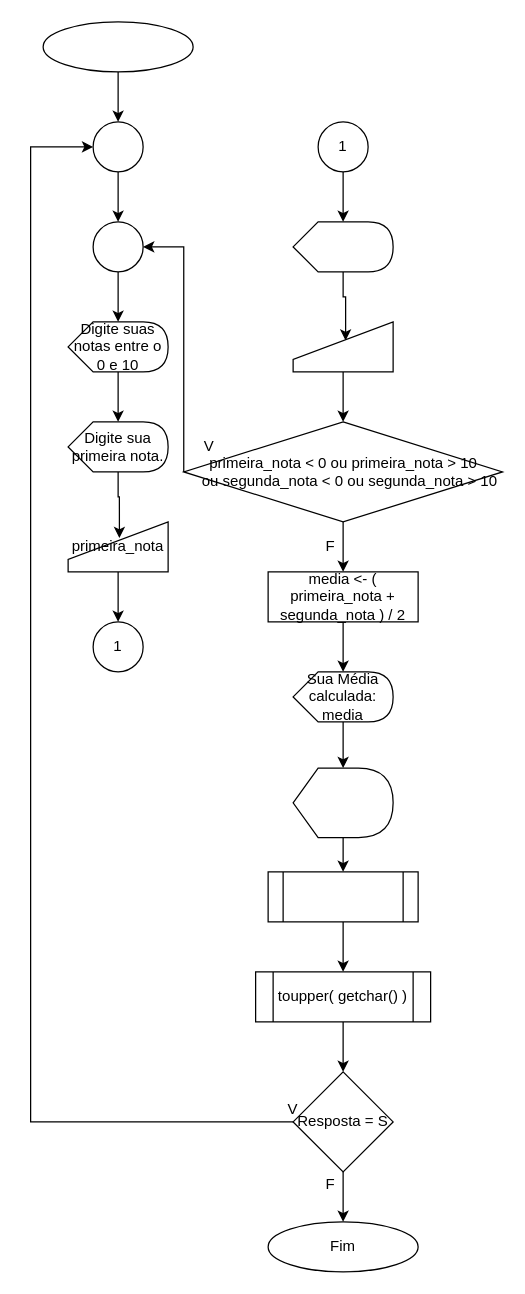
Some shapes in this 525 by 1294 pixel diagram are drawn without their labels. The centre of each missing label's shape, as x and y in pixels:
Deseja refazer o processo?(s/n)?: (342,802)
Digite sua segunda nota.: (342,246)
getchar(): (342,896)
Início: (117,46)
segunda_nota: (342,346)
